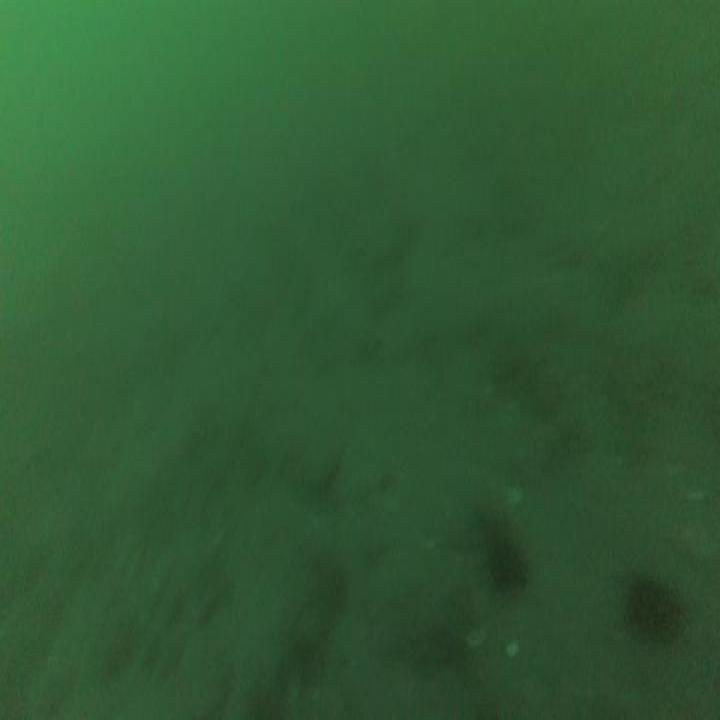echinus: (622, 562, 685, 650), (480, 516, 529, 604)
